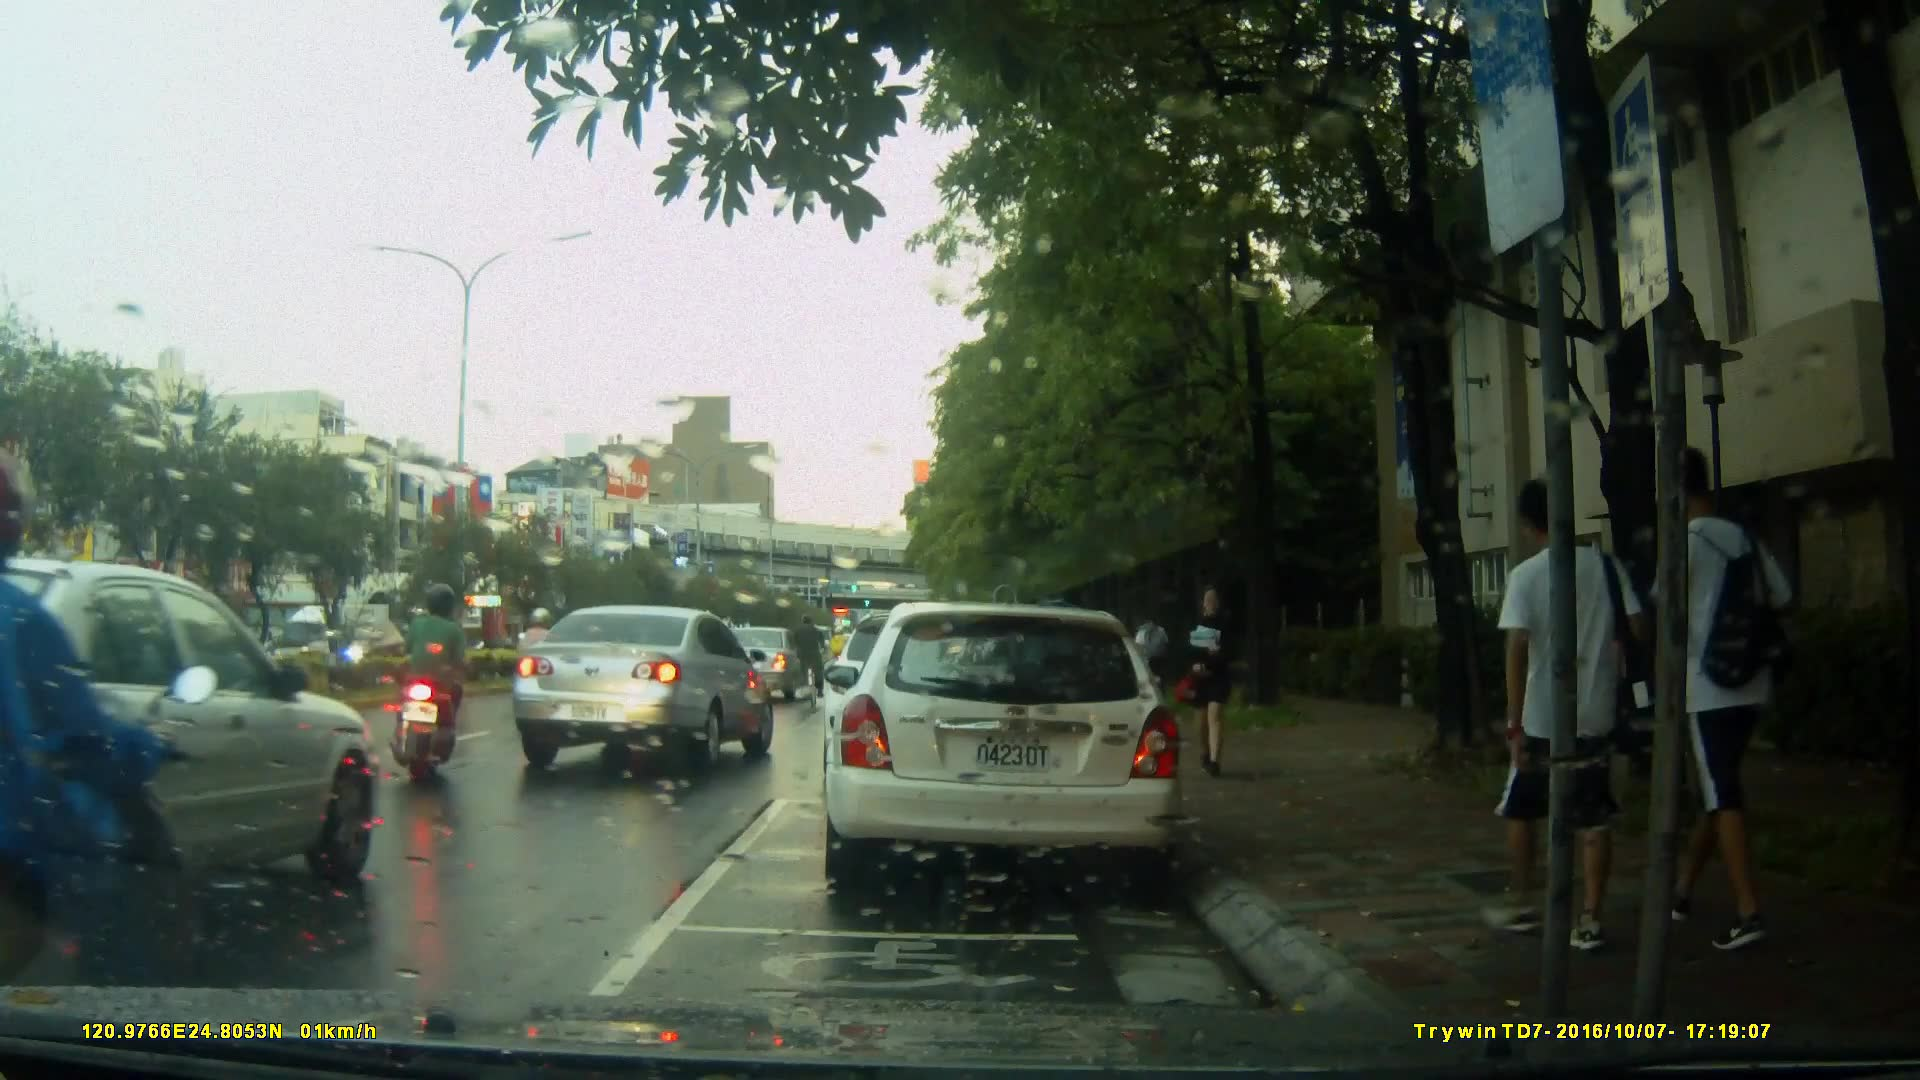pedestrian: (1476, 462, 1643, 954), (1642, 435, 1766, 942), (1177, 569, 1243, 782), (1132, 604, 1177, 732)
rider: (1, 446, 217, 1021), (398, 582, 477, 778), (513, 603, 555, 734), (787, 612, 820, 711), (828, 627, 853, 685)
vehicle: (1, 559, 387, 959), (820, 602, 1188, 898), (508, 602, 781, 775), (698, 625, 811, 704)
